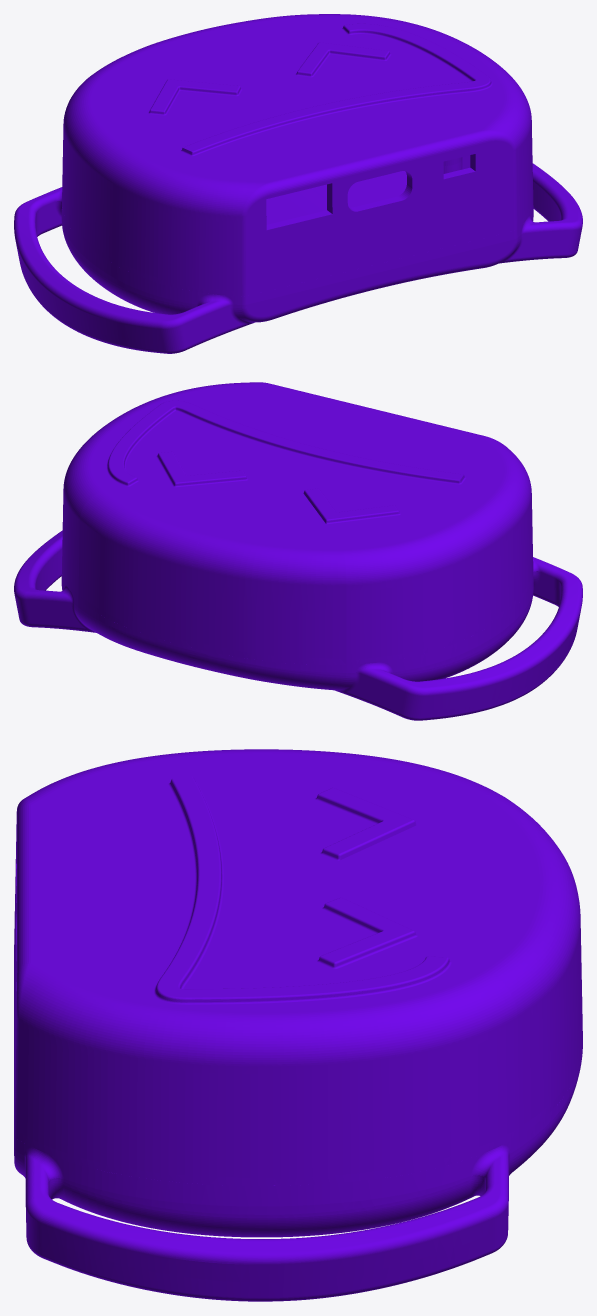
The model's file is tracker.gltf.
3 views of the same model, one above another, from view 1: azimuth 30°, elevation 25°; view 2: azimuth 150°, elevation 25°; view 3: azimuth 270°, elevation 25° (orthographic). The views are drawn at different scales.
Parts seen in each view (by area): view 1: MainCaseTop, MainCaseBottom; view 2: MainCaseTop, MainCaseBottom; view 3: MainCaseTop, MainCaseBottom.
Part boxes in pixels (bbox=[...]): MainCaseTop: bbox=[62, 14, 533, 296]; MainCaseBottom: bbox=[14, 155, 582, 353]; MainCaseTop: bbox=[62, 382, 533, 664]; MainCaseBottom: bbox=[14, 530, 582, 720]; MainCaseTop: bbox=[14, 749, 582, 1185]; MainCaseBottom: bbox=[14, 945, 582, 1301].
Bounding box in the file's own units: 74.08 × 23.93 × 49.47.
